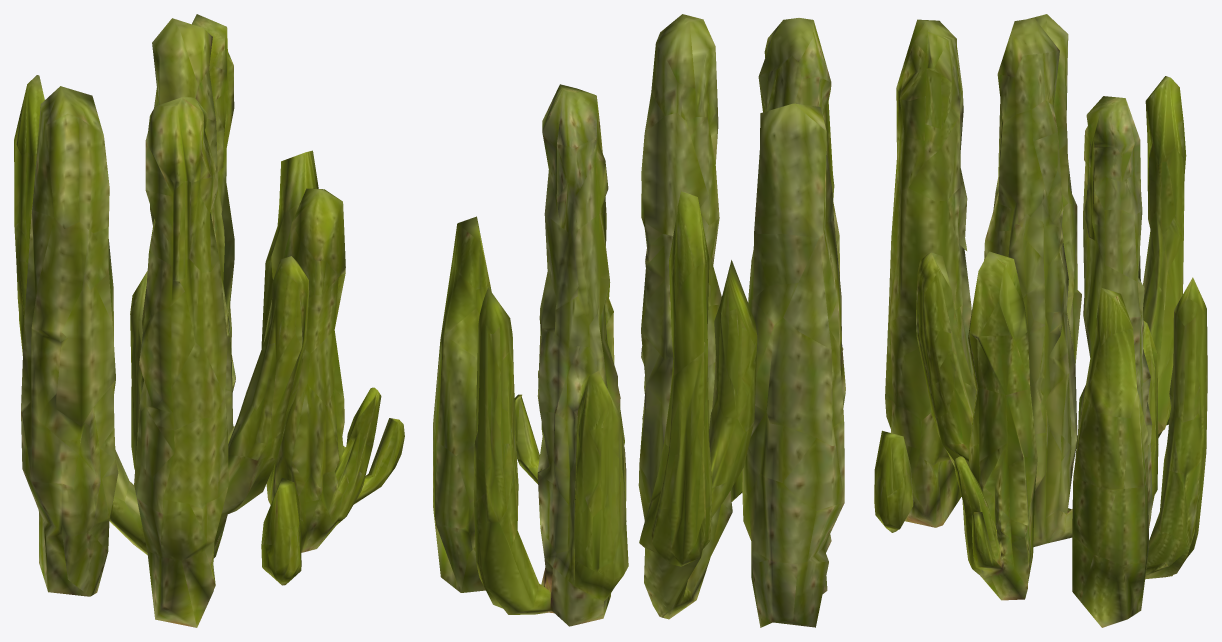
Rendered from cactus.glb.
3 views of the same model, side by side, from view 1: azimuth 30°, elevation 25°; view 2: azimuth 150°, elevation 25°; view 3: azimuth 270°, elevation 25° (orthographic). The views are drawn at different scales.
Bounding box in the file's own units: 1.24 × 1.88 × 1.09.
Materials: 1 (1 with a texture image).
